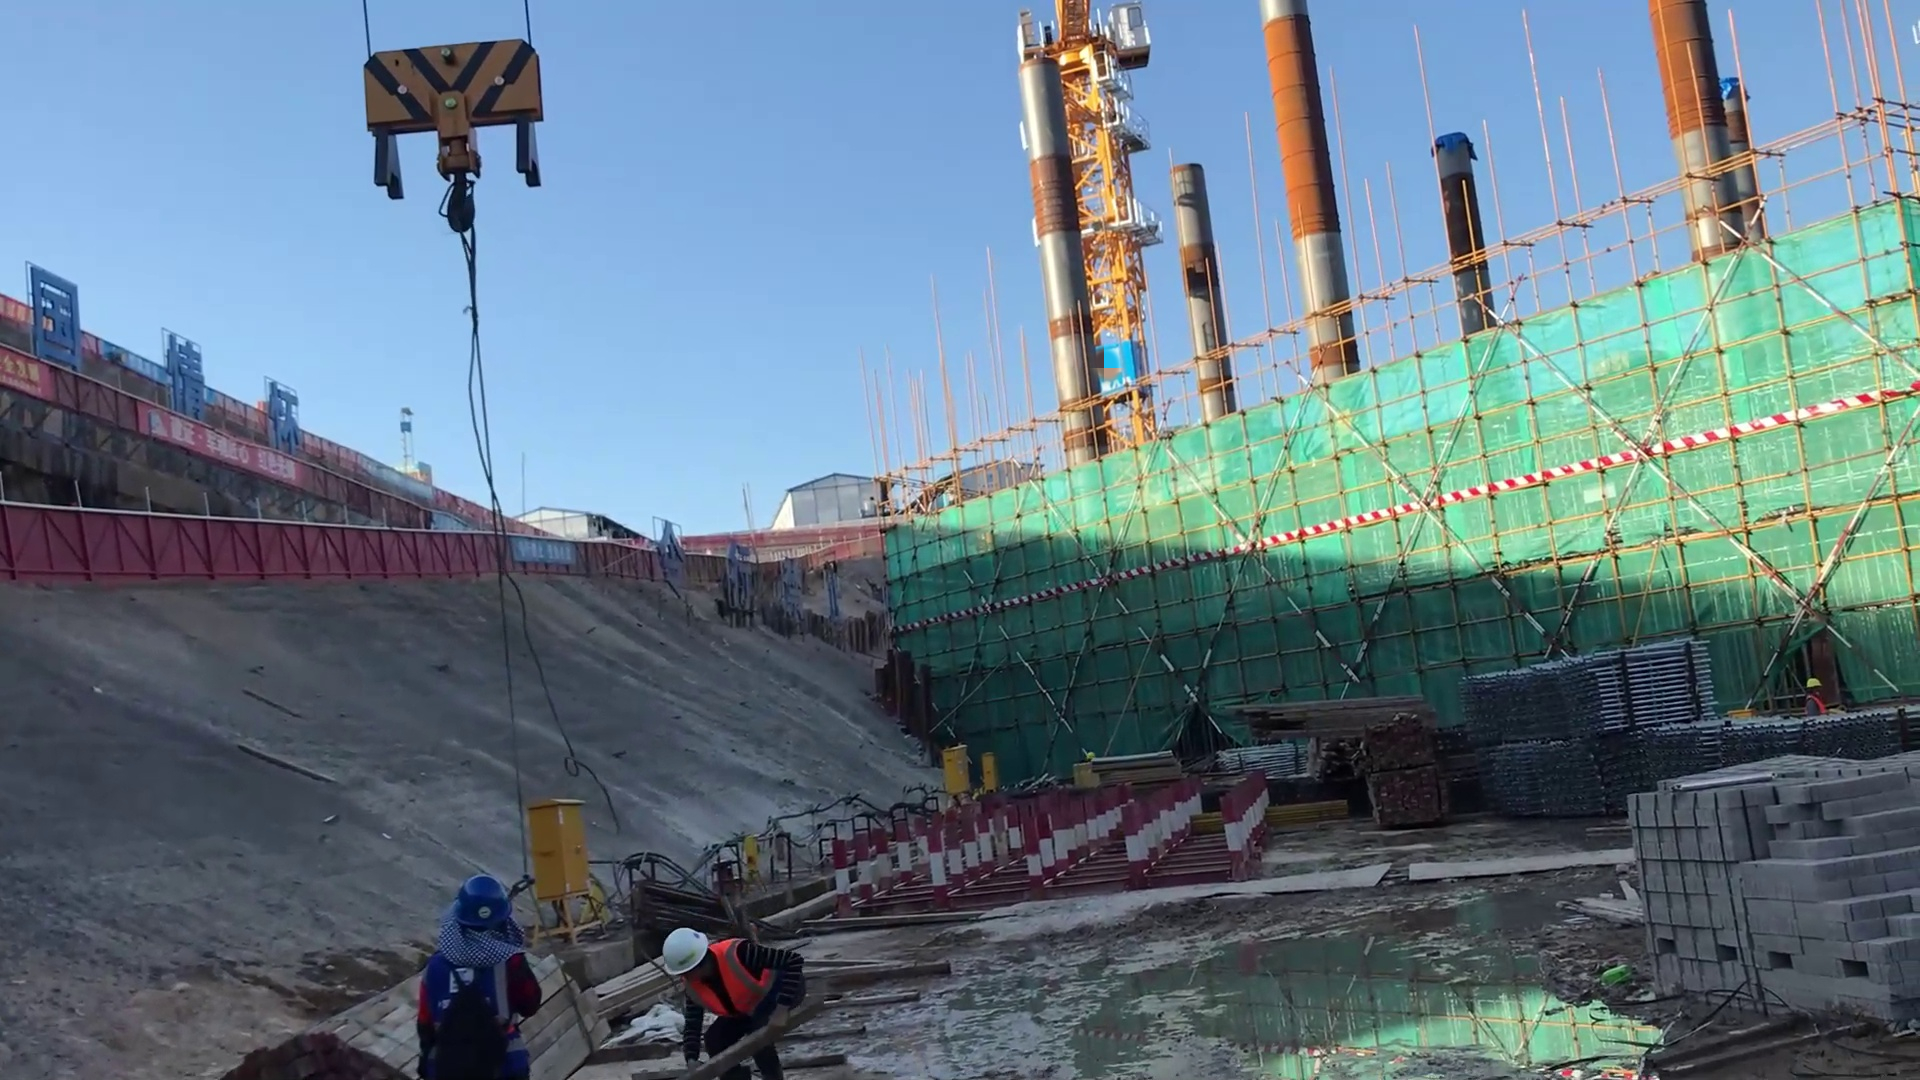board: (1630, 767, 1920, 1005)
ebox: (515, 789, 597, 920), (934, 746, 978, 800), (978, 751, 999, 790)
fence: (7, 500, 393, 596), (395, 527, 660, 586)
helmet: (442, 874, 507, 934), (649, 926, 699, 973)
hook: (348, 41, 558, 197)
person: (652, 919, 811, 1080), (415, 866, 533, 1080), (1796, 675, 1829, 719)
scaffold: (1467, 656, 1737, 730)
vest: (710, 949, 779, 1017)
wood: (1215, 694, 1447, 749)
